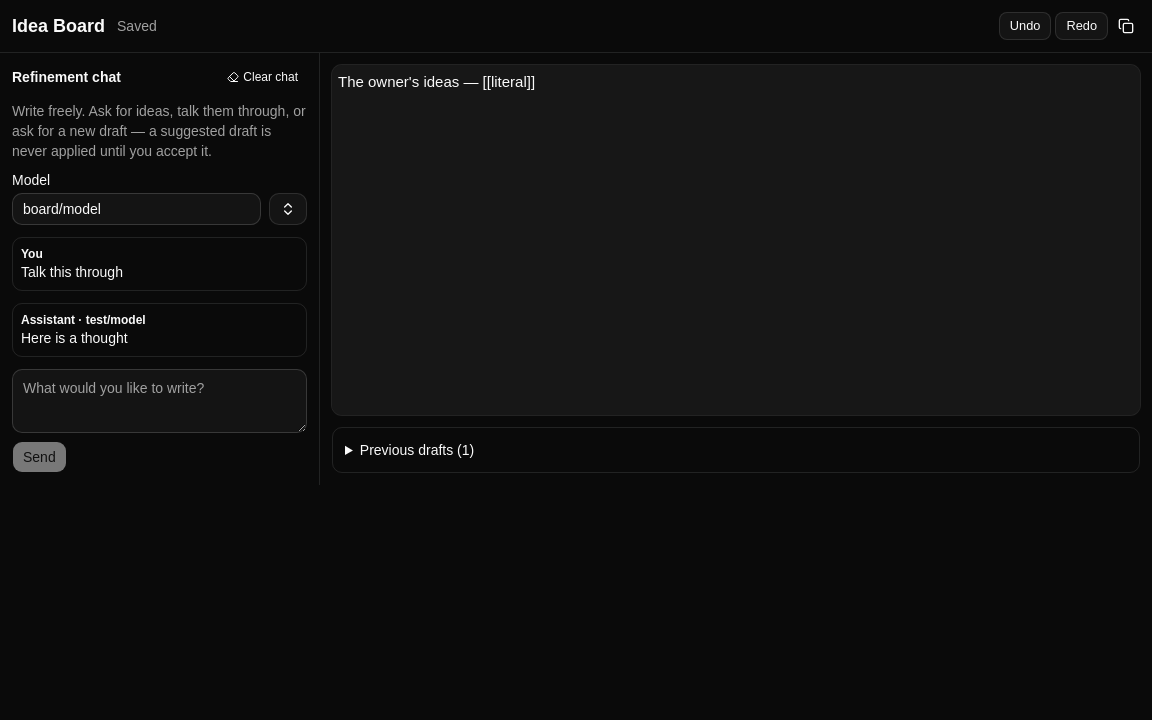
Scenario: cancelling clears NOTHING — the store AND the persisted row are unchanged
The width and height of the screenshot is (1152, 720).
Click the button with test id "idea-board-clear": point(264, 77) [220,65,307,89]
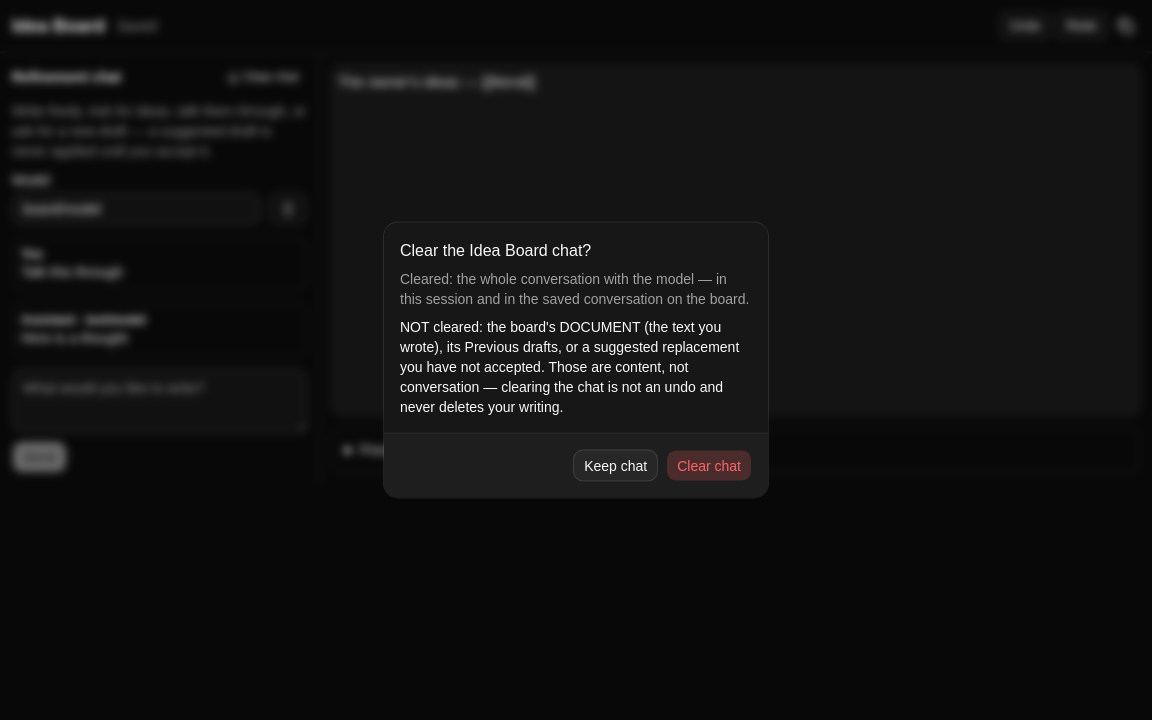
Expected: the dialog with test id "idea-board-clear-dialog" is shown, [384,222,768,498]
Click the button with test id "idea-board-clear-cancel": point(616, 466) [573,450,658,482]
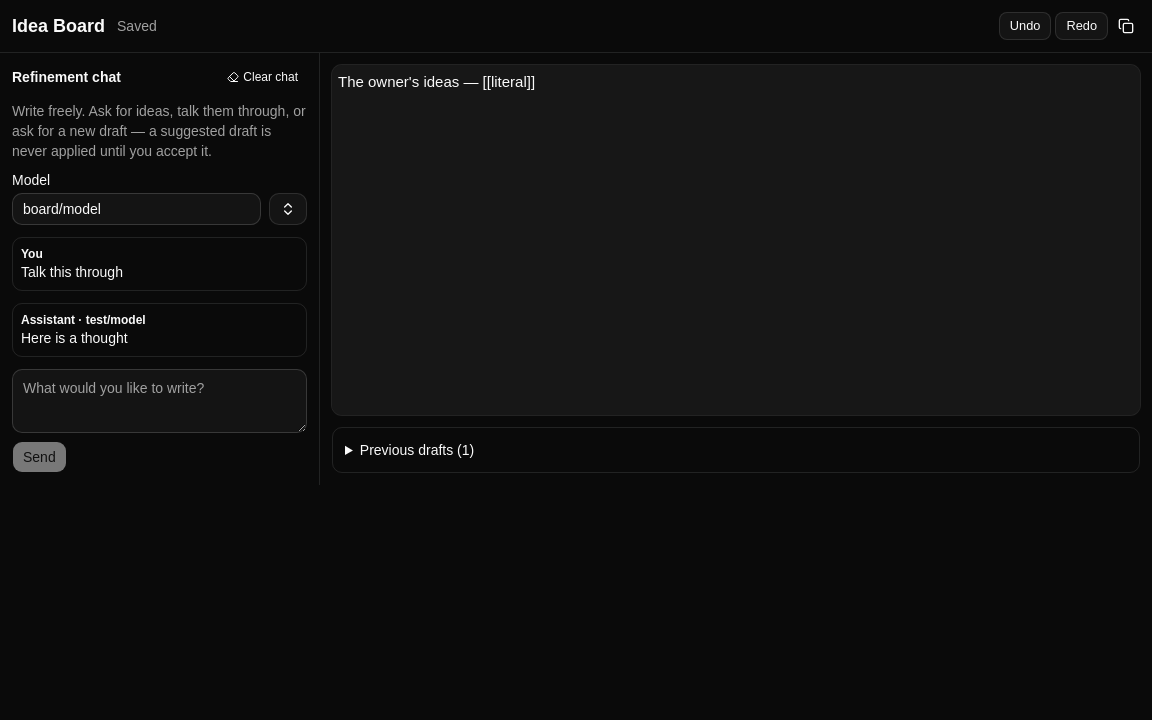
Expected: the dialog with test id "idea-board-clear-dialog" is gone
